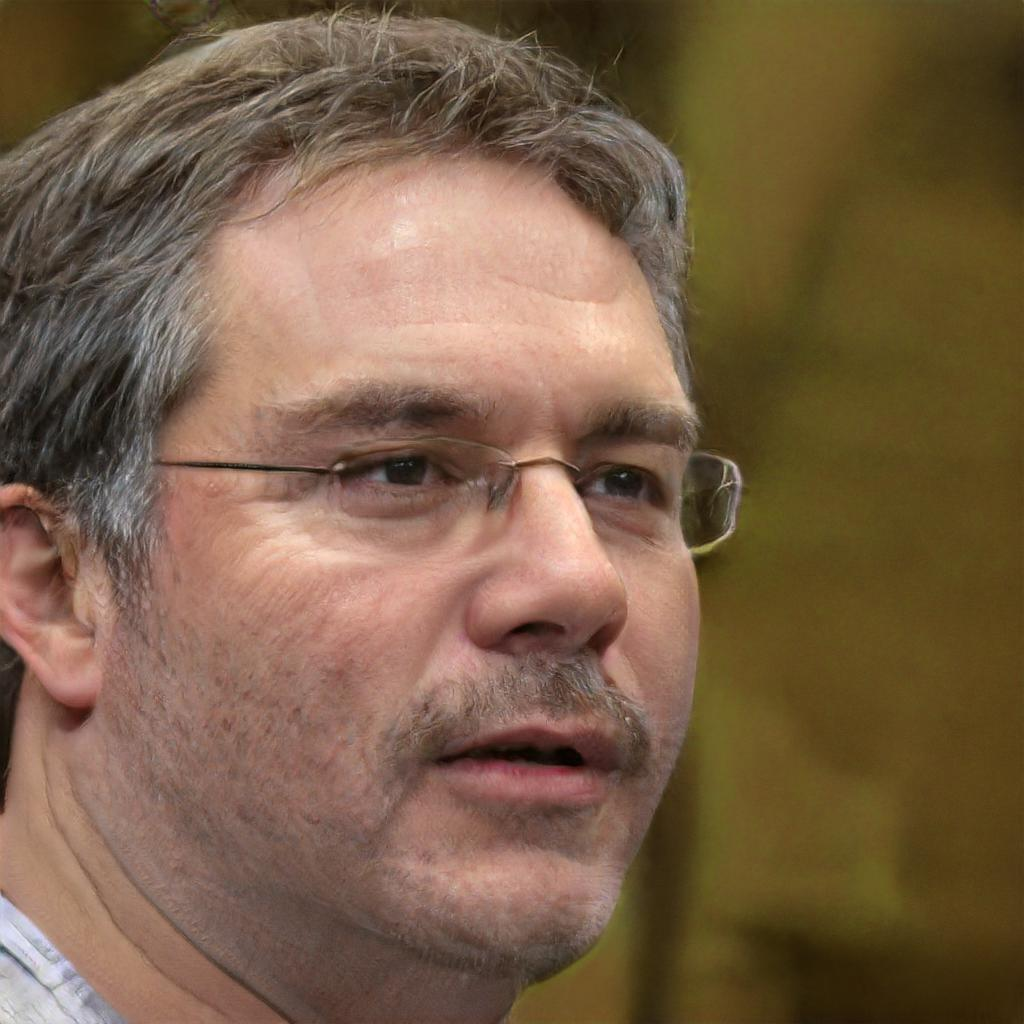face: (102, 164, 701, 977)
